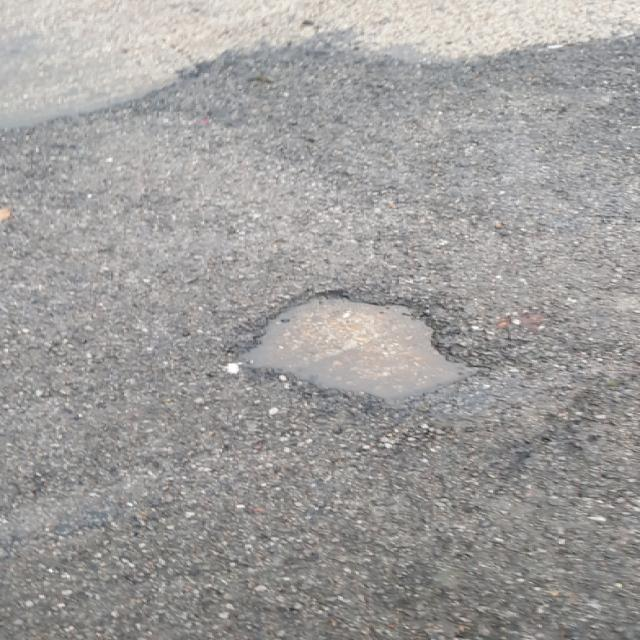pothole: (226, 286, 502, 410)
